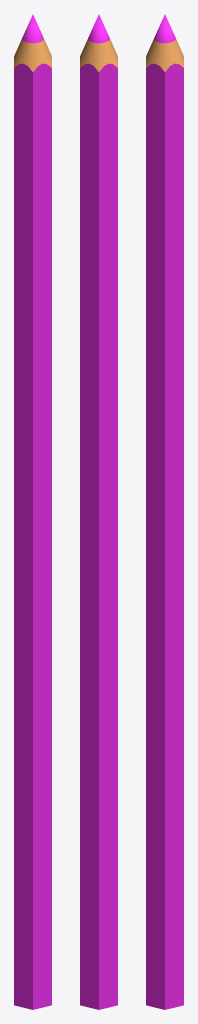
File: potlood-roze.fbx
3 views of the same model, side by side, from view 1: azimuth 30°, elevation 25°; view 2: azimuth 210°, elevation 25°; view 3: azimuth 270°, elevation 25° (orthographic).
Visible parts, largest first — view 1: Model; view 2: Model; view 3: Model.
Boxes of the visible parts, x1,y1,x2,y2 form: Model: (14,14,51,1009); Model: (80,14,117,1009); Model: (146,14,183,1009).
Size of the model in its own units: 80 by 2000 by 69.28.
